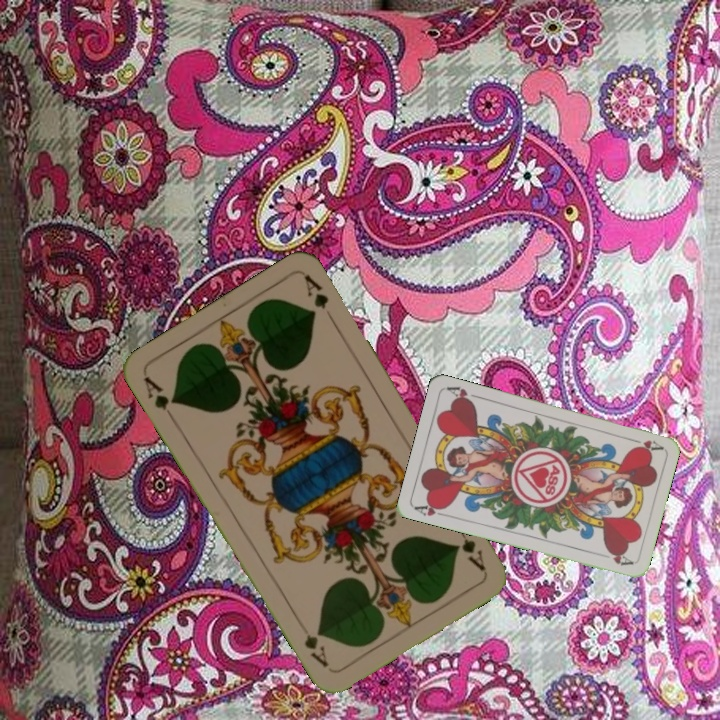GA: (139, 372, 179, 425), (452, 520, 488, 574)
HA: (411, 498, 451, 520), (624, 434, 665, 453)
